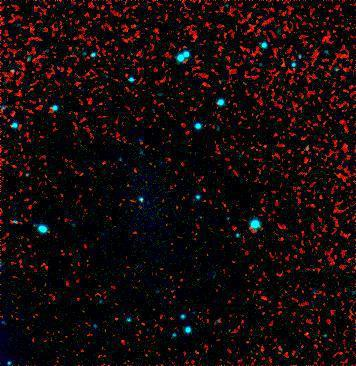star: (266, 48, 296, 78)
